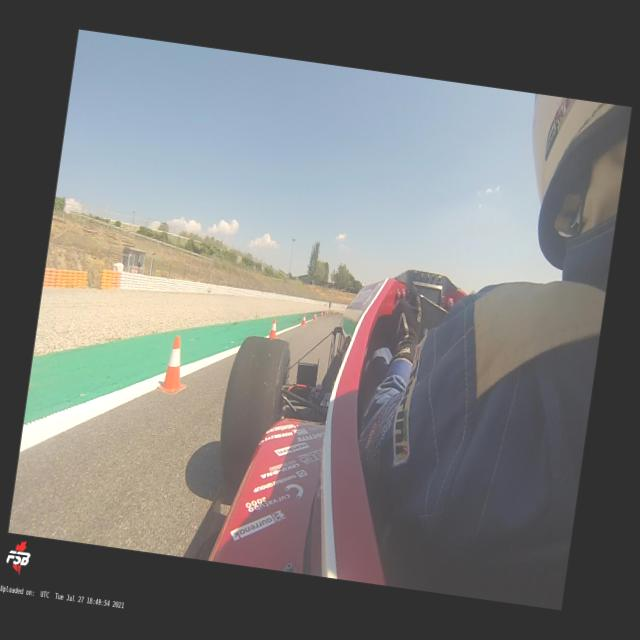orange_cone: (157, 334, 193, 395), (270, 317, 278, 338), (302, 313, 307, 326), (314, 312, 318, 322), (321, 310, 323, 318), (325, 311, 327, 317), (326, 310, 328, 316)
